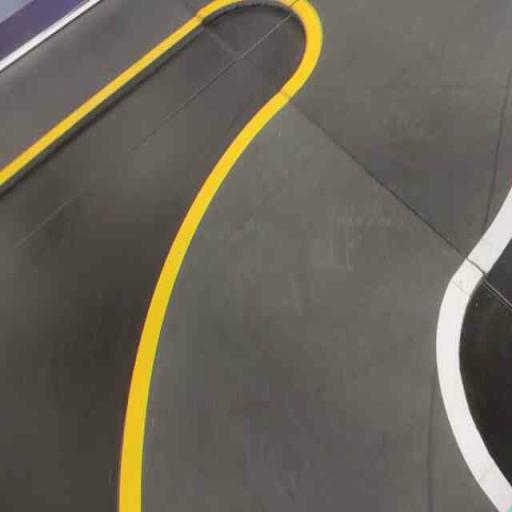right: (115, 82, 511, 511)
